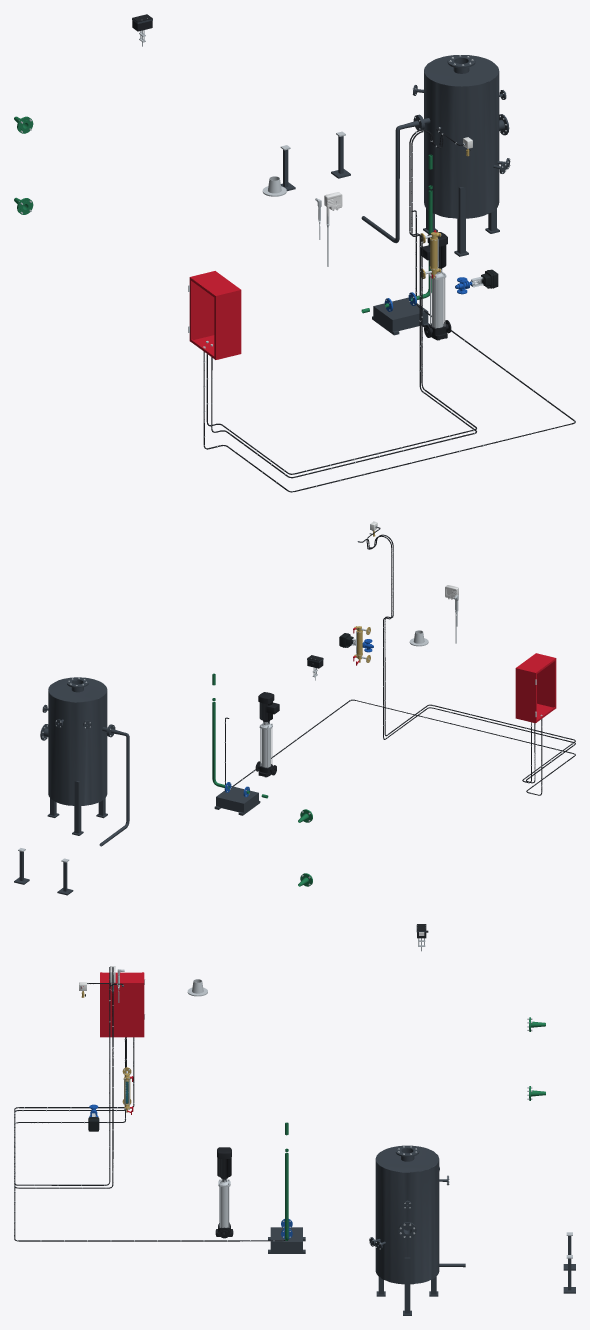
3 renders of one model, top to bottom at view 1: azimuth 30°, elevation 25°; view 2: azimuth 150°, elevation 25°; view 3: azimuth 270°, elevation 25°, orthographic. The views are drawn at different scales.
Visible parts, largest first — view 1: separator_bdv60_5 / dark, control_cabinet / control_cabinet_0.npz, wiring_pressure_switch_1 / black, wiring_pressure_switch_3 / black, wiring_pump_2 / black, pump_branch_2 / dark, bottom_to_bdv / dark, trap_support / dark; view 2: separator_bdv60_5 / dark, control_cabinet / control_cabinet_0.npz, wiring_pressure_switch_3 / black, wiring_pump_2 / black, pump_branch_2 / dark, wiring_pressure_switch_1 / black, bottom_to_bdv / dark, pump_1 CAD solid 15; view 3: separator_bdv60_5 / dark, control_cabinet / control_cabinet_0.npz, wiring_pressure_switch_3 / black, pump_branch_2 / dark, wiring_pressure_switch_1 / black, wiring_pump_2 / black.
Boxes of the visible parts, x1=… form: separator_bdv60_5 / dark: x1=413, y1=55, x2=510, y2=256; control_cabinet / control_cabinet_0.npz: x1=188, y1=271, x2=241, y2=359; wiring_pressure_switch_1 / black: x1=211, y1=129, x2=476, y2=478; wiring_pressure_switch_3 / black: x1=206, y1=128, x2=476, y2=474; wiring_pump_2 / black: x1=203, y1=210, x2=575, y2=492; pump_branch_2 / dark: x1=372, y1=297, x2=429, y2=335; bottom_to_bdv / dark: x1=361, y1=115, x2=423, y2=243; trap_support / dark: x1=280, y1=136, x2=350, y2=191; separator_bdv60_5 / dark: x1=40, y1=677, x2=111, y2=835; control_cabinet / control_cabinet_0.npz: x1=515, y1=653, x2=556, y2=723; wiring_pressure_switch_3 / black: x1=359, y1=534, x2=575, y2=783; wiring_pump_2 / black: x1=225, y1=699, x2=575, y2=795; pump_branch_2 / dark: x1=214, y1=786, x2=260, y2=815; wiring_pressure_switch_1 / black: x1=366, y1=527, x2=575, y2=783; bottom_to_bdv / dark: x1=99, y1=724, x2=129, y2=846; pump_1 CAD solid 15: x1=258, y1=692, x2=279, y2=721; separator_bdv60_5 / dark: x1=369, y1=1145, x2=448, y2=1315; control_cabinet / control_cabinet_0.npz: x1=100, y1=972, x2=145, y2=1037; wiring_pressure_switch_3 / black: x1=14, y1=967, x2=134, y2=1185; pump_branch_2 / dark: x1=268, y1=1227, x2=305, y2=1253; wiring_pressure_switch_1 / black: x1=14, y1=967, x2=126, y2=1188; wiring_pump_2 / black: x1=14, y1=1037, x2=285, y2=1241.
Size of the model in its own units: 5.54 by 3.27 by 6.75.
